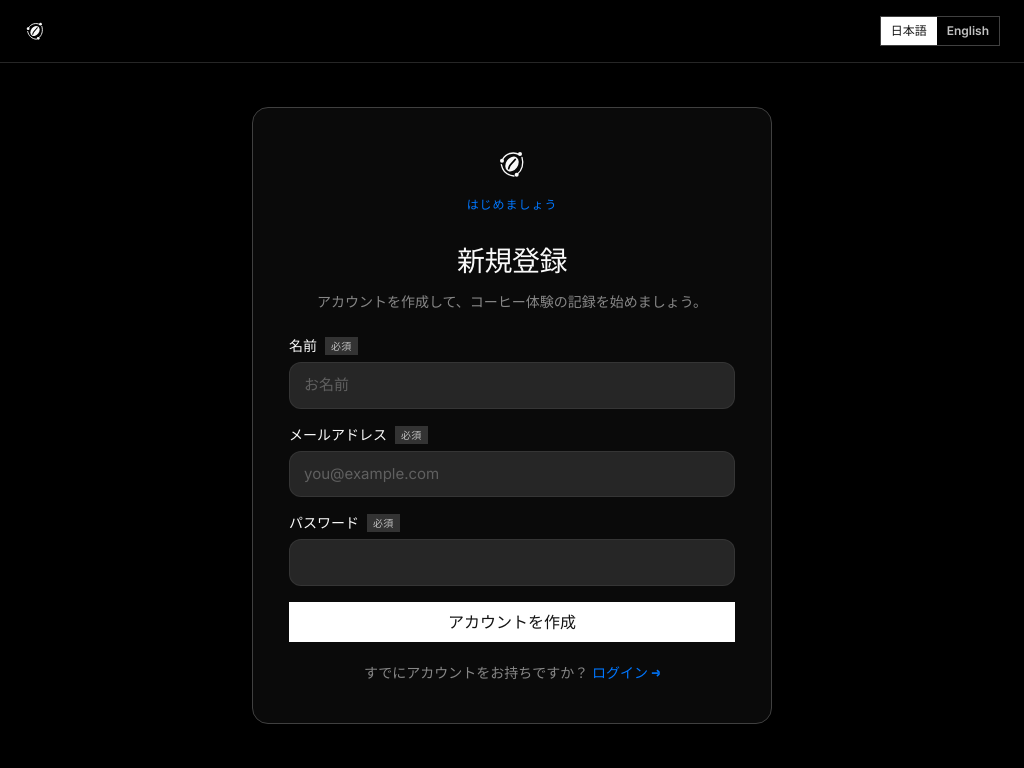
Test: RegisterPage › 登録済みメールアドレス（CONFLICT）のときは具体的なエラーメッセージを表示する
Type "Alice" into the field labelled "名前 必須" at (512, 385), box [289, 362, 735, 409]
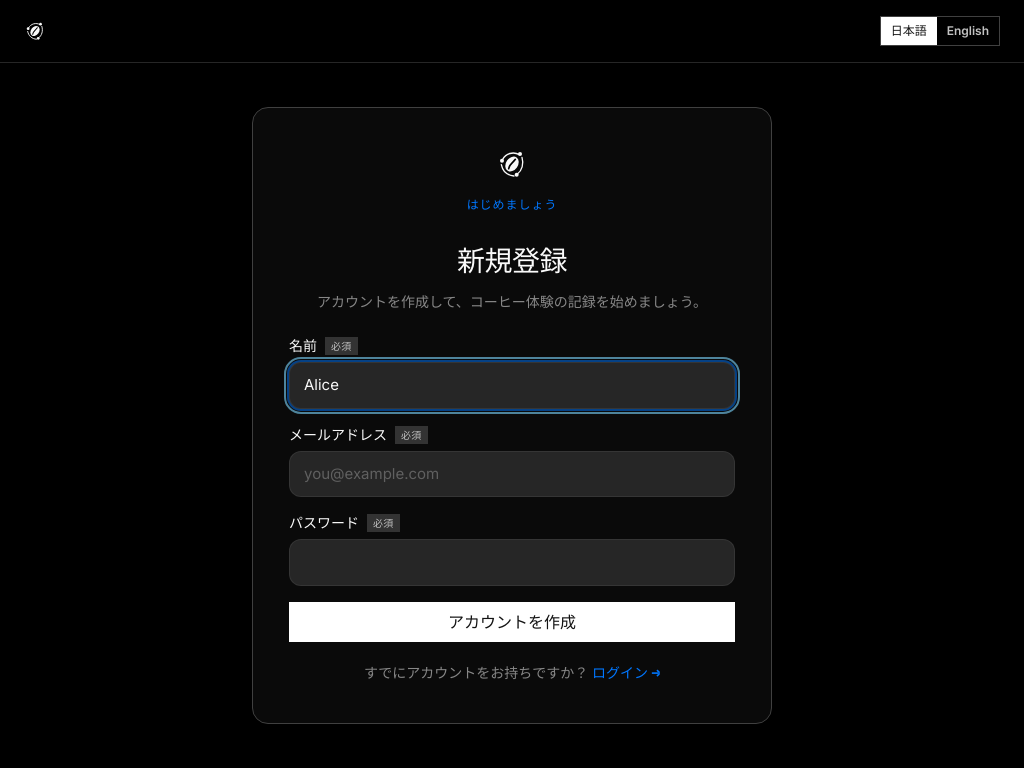
Type "alice@example.com" into the field labelled "メールアドレス 必須" at (512, 474), box [289, 451, 735, 497]
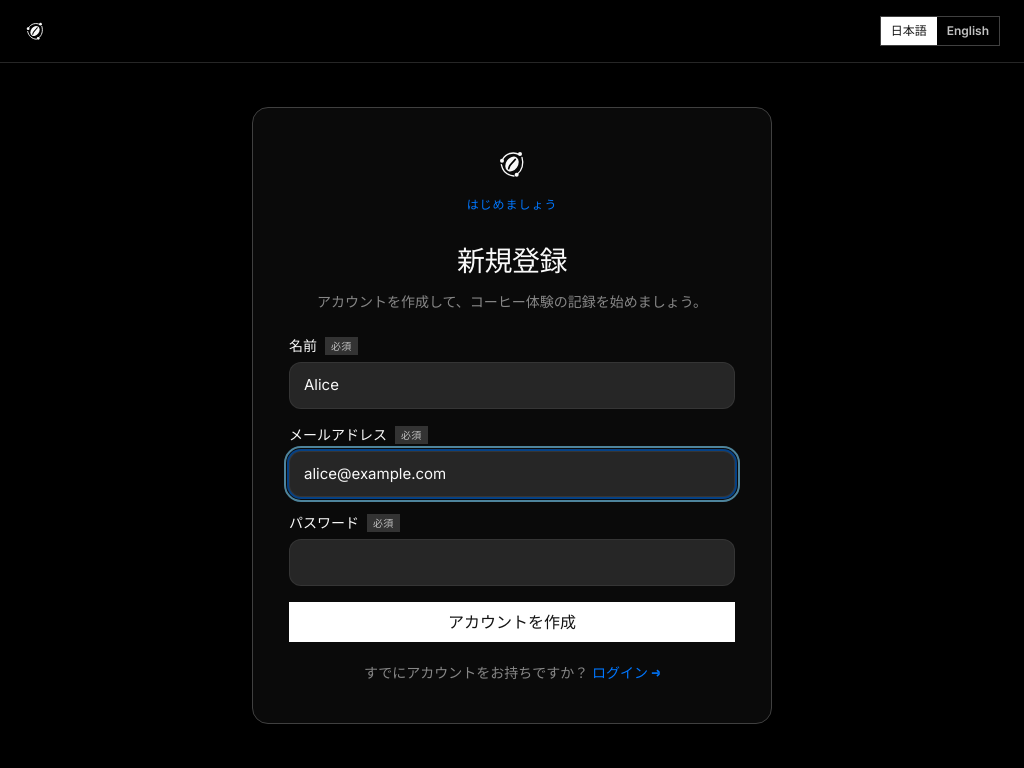
Type "password123" into the password field labelled "パスワード 必須" at (512, 562), box [289, 539, 735, 586]
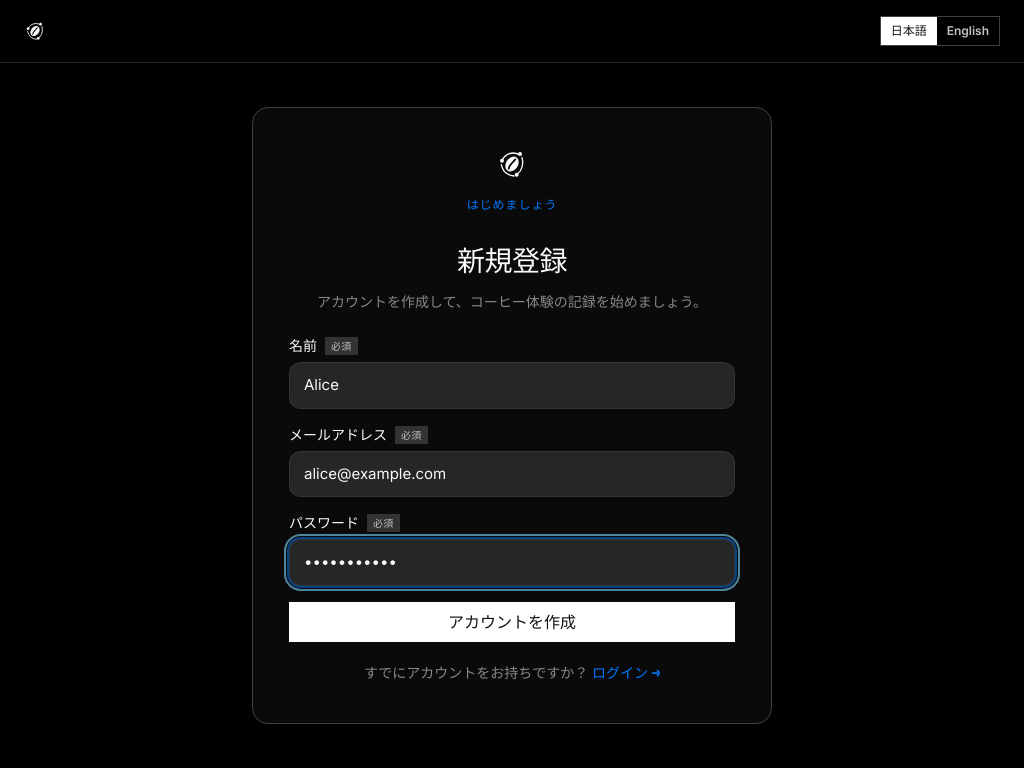
Click the button "アカウントを作成" at (512, 622), box [289, 602, 735, 642]
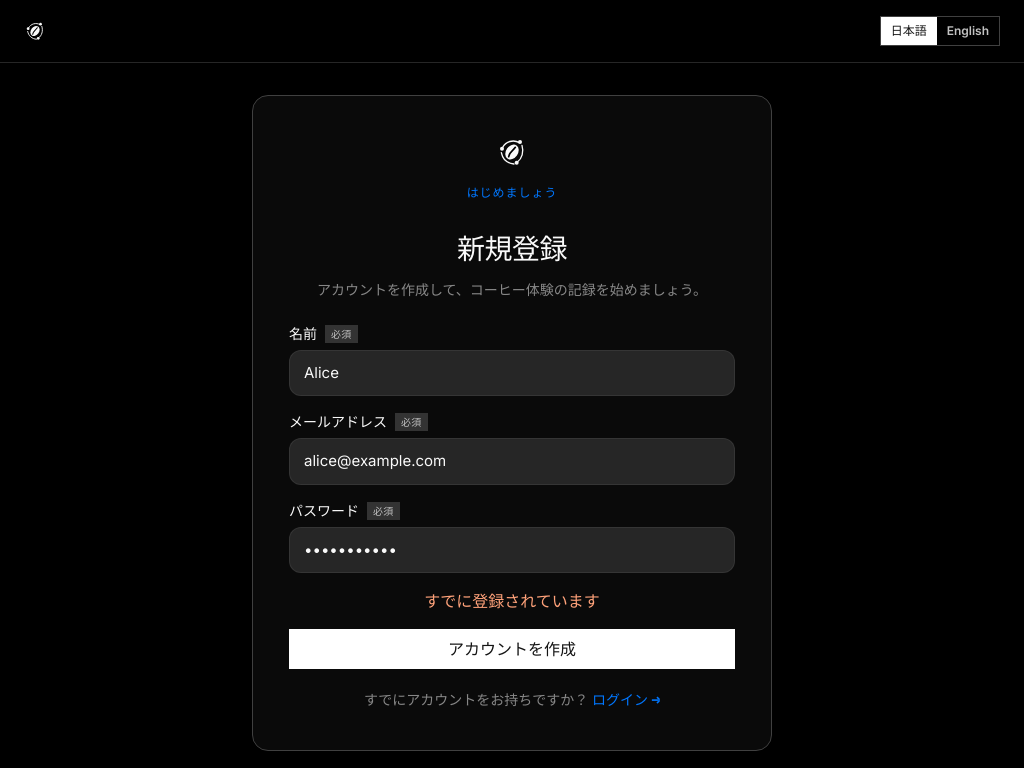
Expected: the text "すでに登録されています" is shown, [424, 591, 600, 611]
